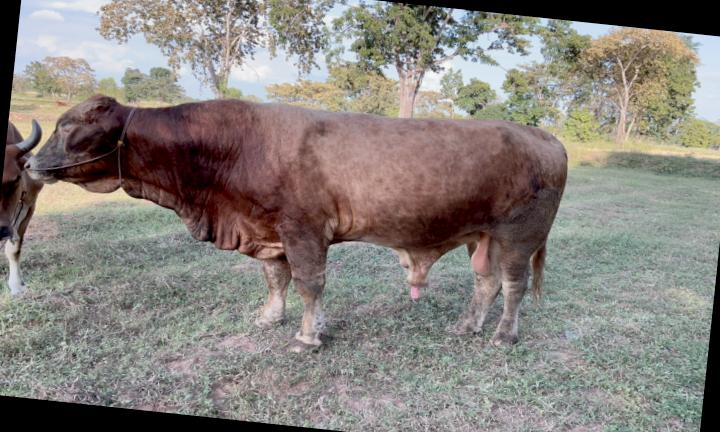Charolais: (26, 95, 567, 351)
